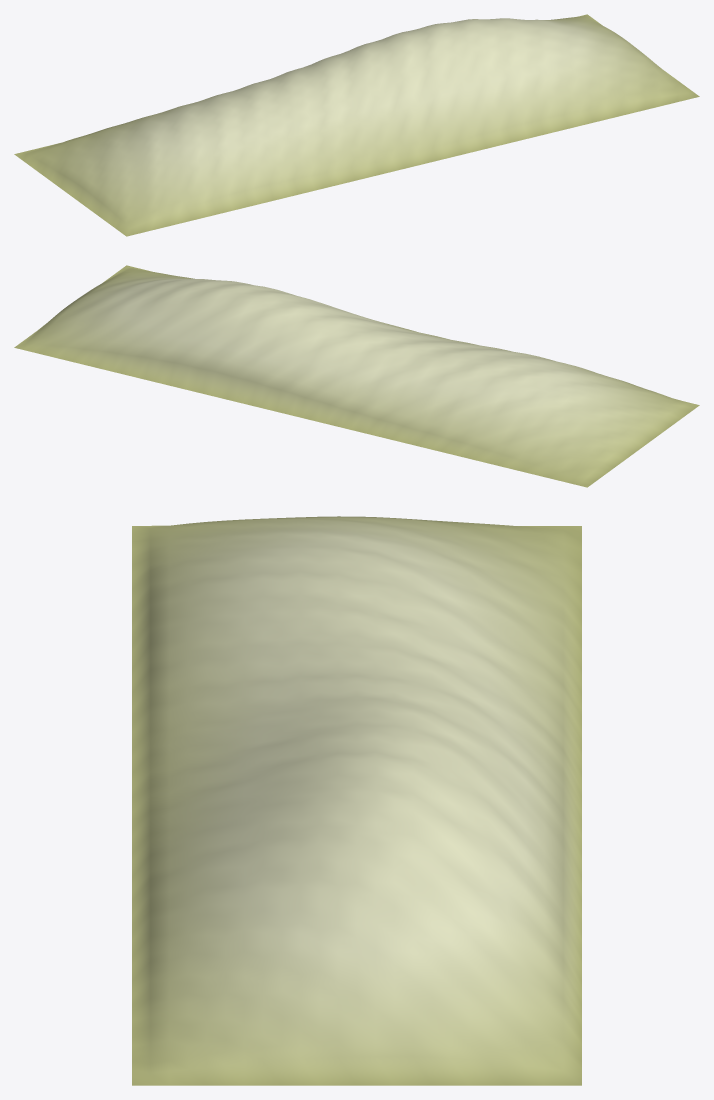
File: garden3d_hills.glb
The picture shows the model from 3 angles, top to bottom: view 1: azimuth 30°, elevation 25°; view 2: azimuth 150°, elevation 25°; view 3: azimuth 270°, elevation 25°; orthographic projection. The views are drawn at different scales.
Visible parts, largest first — view 1: Terrain / volumetric rolling hills; view 2: Terrain / volumetric rolling hills; view 3: Terrain / volumetric rolling hills.
Boxes of the visible parts, x1,y1,x2,y2 form: Terrain / volumetric rolling hills: [14, 14, 699, 236]; Terrain / volumetric rolling hills: [14, 265, 699, 487]; Terrain / volumetric rolling hills: [132, 516, 581, 1085].
Bounding box in the file's own units: 50 × 5.52 × 17.
